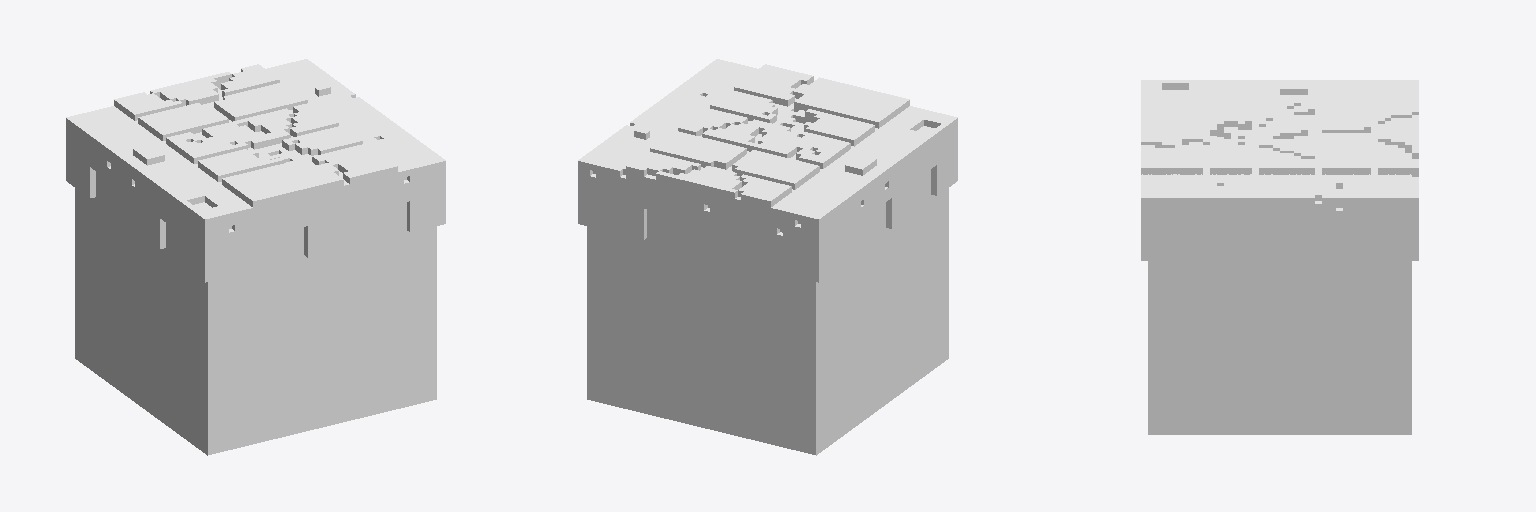
File: tile_base_road_1.obj
3 views of the same model, side by side, from view 1: azimuth 30°, elevation 25°; view 2: azimuth 150°, elevation 25°; view 3: azimuth 270°, elevation 25° (orthographic).
Parts seen in each view (by area): view 1: tile_base_road_1; view 2: tile_base_road_1; view 3: tile_base_road_1.
Boxes of the visible parts, <box> form: tile_base_road_1: <box>66,59,445,455</box>; tile_base_road_1: <box>578,59,957,455</box>; tile_base_road_1: <box>1141,80,1418,434</box>.
Bounding box in the file's own units: 40 × 39 × 40.